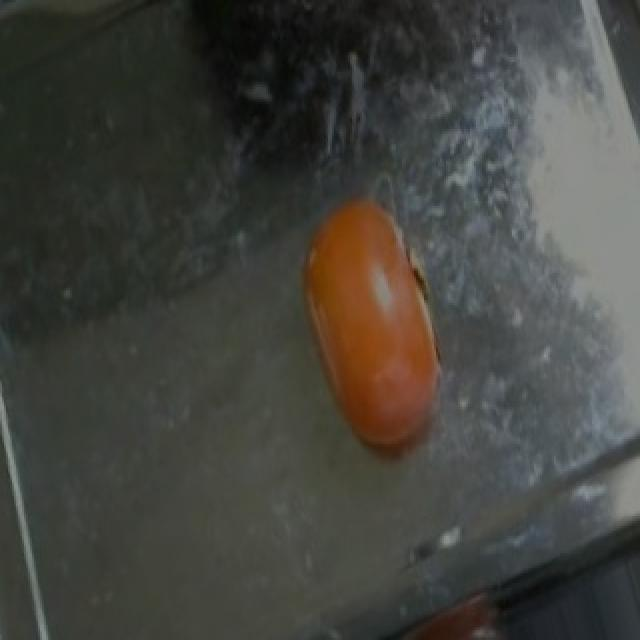Fruit: (278, 176, 460, 476)
